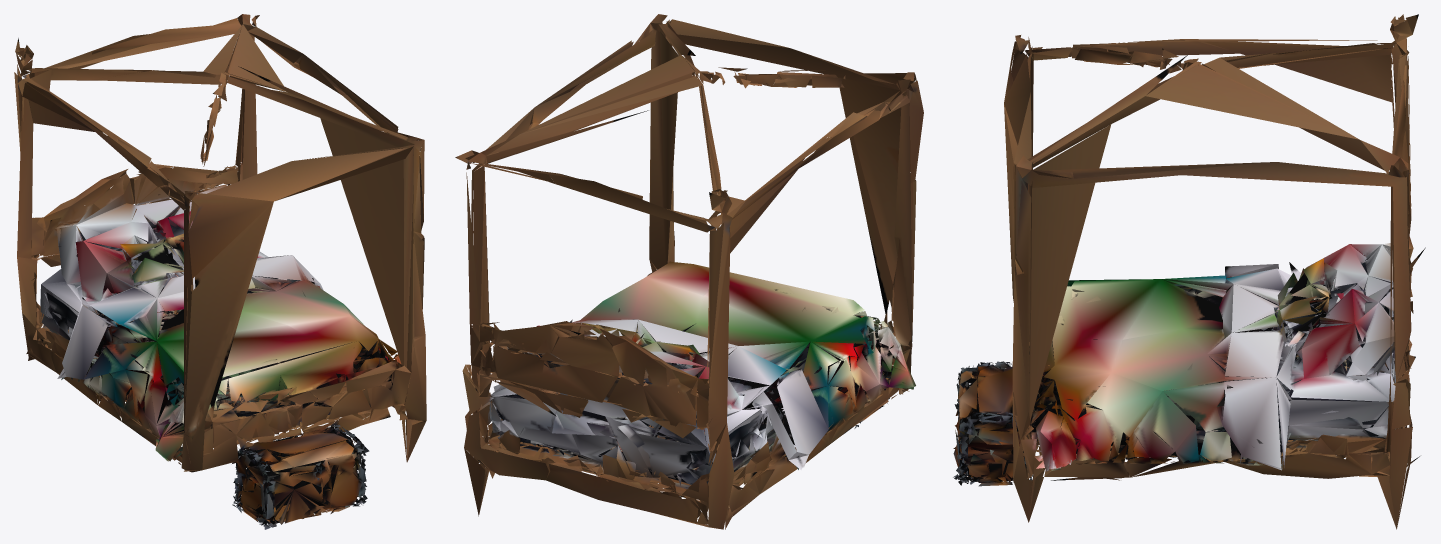
The model's file is dorm_bed.glb.
3 renders of one model, left to right at view 1: azimuth 30°, elevation 25°; view 2: azimuth 150°, elevation 25°; view 3: azimuth 270°, elevation 25°, orthographic. The views are drawn at different scales.
Parts seen in each view (by area): view 1: dorm_bed_body; view 2: dorm_bed_body; view 3: dorm_bed_body.
Boxes of the visible parts, <box> form: dorm_bed_body: <box>14,14,426,529</box>; dorm_bed_body: <box>455,14,923,529</box>; dorm_bed_body: <box>953,14,1425,529</box>.
Size of the model in its own units: 1.73 by 2.33 by 2.38.
1 material, 1 textured.
